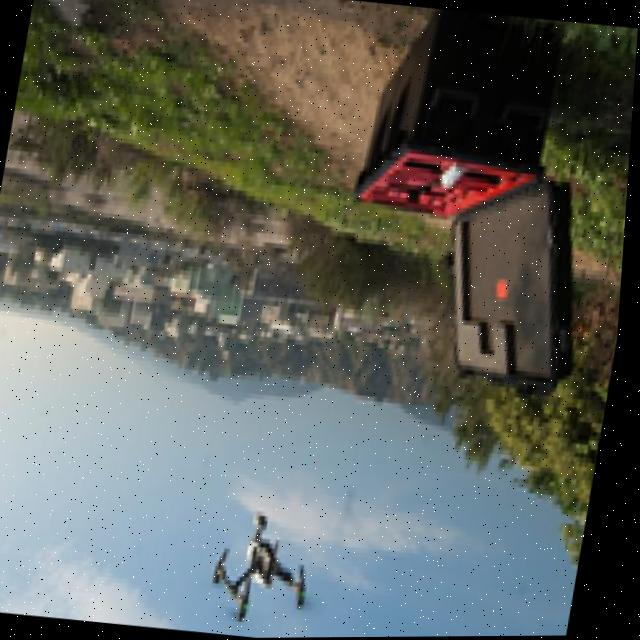drones: (199, 473, 370, 639)
